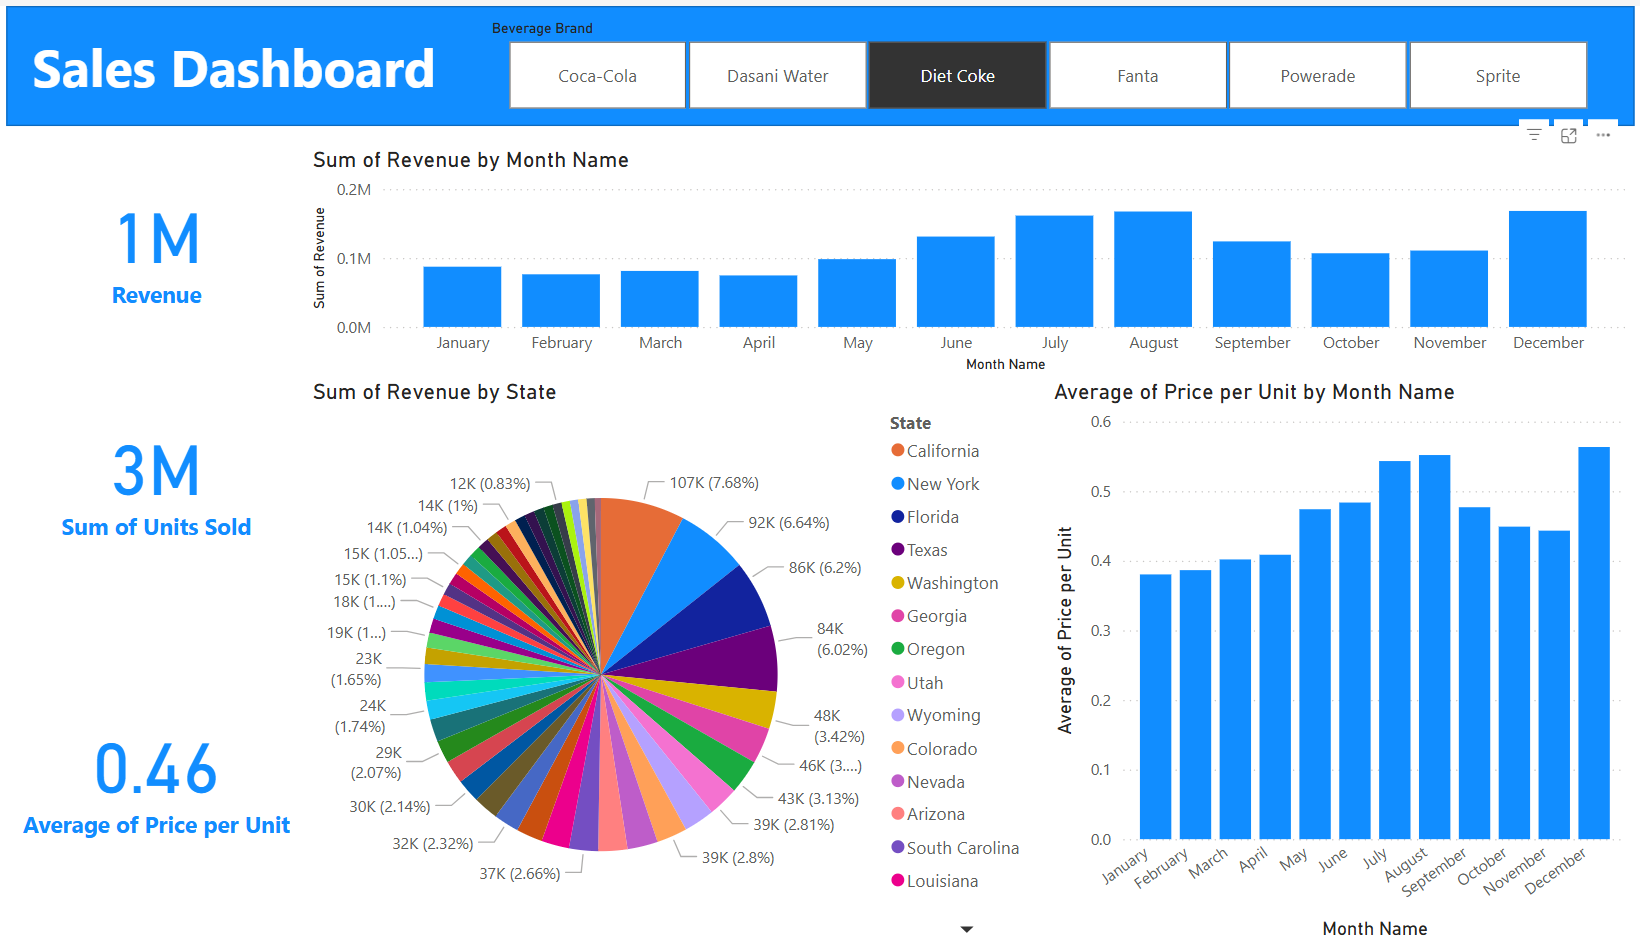

Layout of this report page (visuals, bound fields, positions):
{"tool":"powerbi","page":{"name":"Page 1","canvas":[1280,720],"ordinal":0},"visuals":[{"type":"shape","box":[16.5,0,1247.3,91.9],"z":0},{"type":"slicer","fields":{"Values":["Data.Beverage Brand"]},"box":[375.7,5.7,875.7,80],"z":1000},{"type":"card","fields":{"Values":["Sum(Data.Revenue)"]},"box":[17.1,107.1,228.6,150],"z":2000},{"type":"card","fields":{"Values":["Sum(Data.Units Sold)"]},"box":[17.1,285.7,228.6,150],"z":3000},{"type":"card","fields":{"Values":["Avg(Data.Price per Unit)"]},"box":[17.1,512.9,228.6,150],"z":4000},{"type":"columnChart","fields":{"Category":["Data.Month Name"],"Y":["Sum(Data.Revenue)"]},"box":[245.7,107.1,1017.1,178.6],"z":5000},{"type":"pieChart","fields":{"Category":["Data.State"],"Y":["Sum(Data.Revenue)"]},"box":[245.6,285.4,568.1,435],"z":6000},{"type":"columnChart","fields":{"Y":["Avg(Data.Price per Unit)"],"Category":["Data.Month Name"]},"box":[813.7,285.4,448.7,435],"z":7000}]}

Visuals, with their boxes in screenshot pixels (x1, y1, x2, y2), scaled from the page's 1280x720 canvas onto the 1640x946 screenshot:
shape: [21,0,1619,121]
slicer - Data.Beverage Brand: [481,7,1603,113]
card - Sum(Data.Revenue): [22,141,315,338]
card - Sum(Data.Units Sold): [22,375,315,572]
card - Avg(Data.Price per Unit): [22,674,315,871]
columnChart - Data.Month Name x Sum(Data.Revenue): [315,141,1618,375]
pieChart - Data.State x Sum(Data.Revenue): [315,375,1043,945]
columnChart - Avg(Data.Price per Unit) x Data.Month Name: [1043,375,1617,945]
